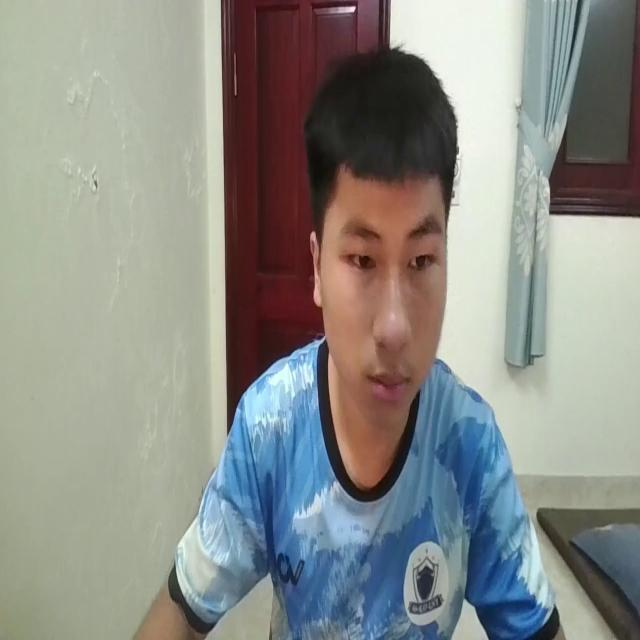student: (125, 46, 558, 640)
